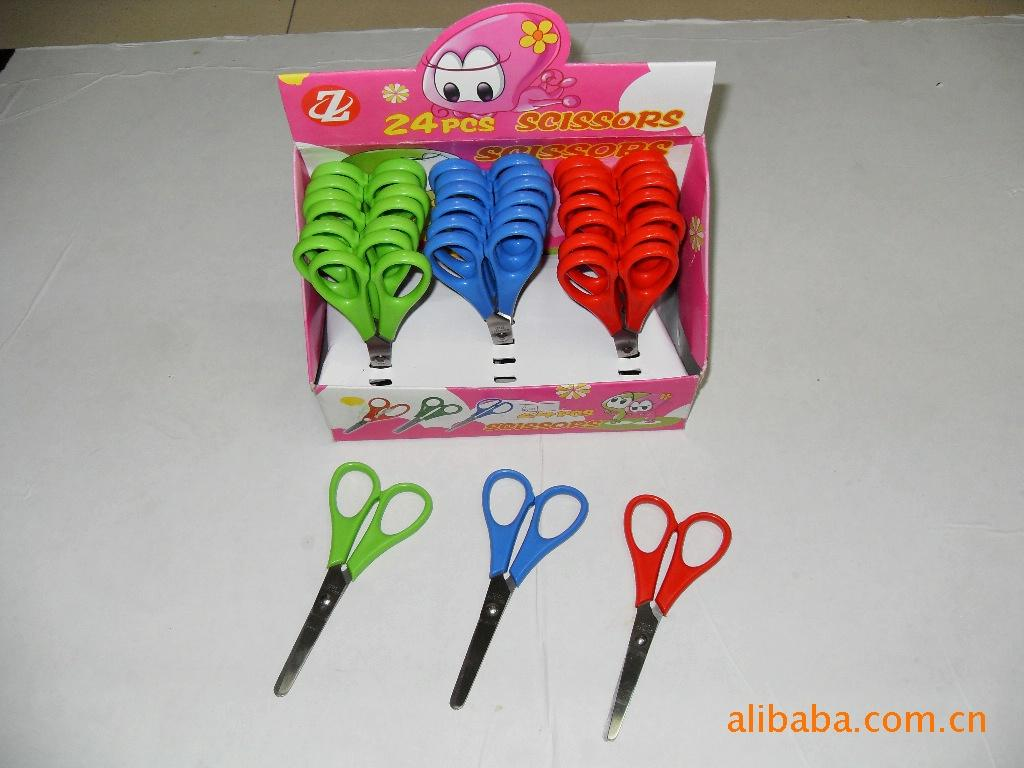scissor: (217, 447, 783, 673), (262, 120, 748, 383)
